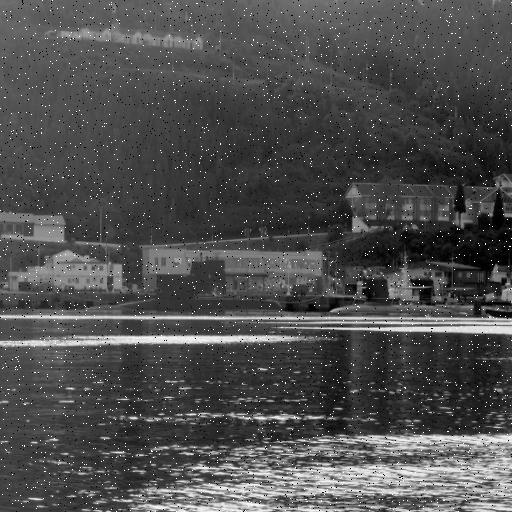submarine: (328, 300, 480, 319)
